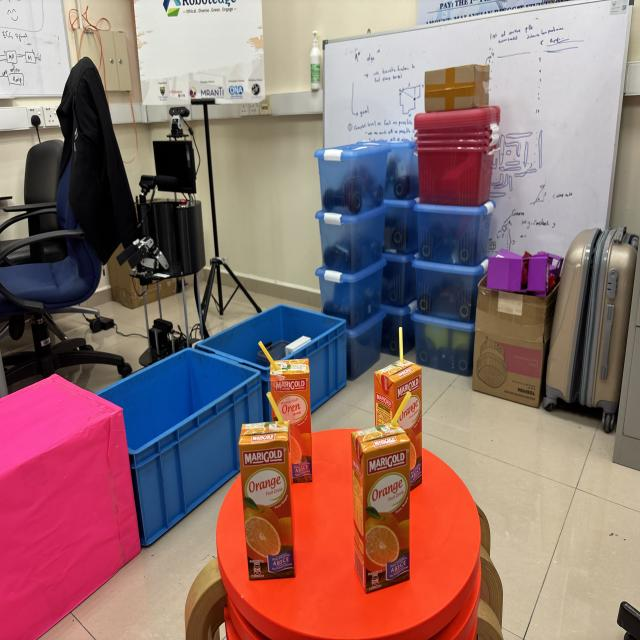drink_carton: (341, 386, 418, 602), (237, 386, 300, 585), (370, 323, 429, 501), (255, 332, 317, 489)
